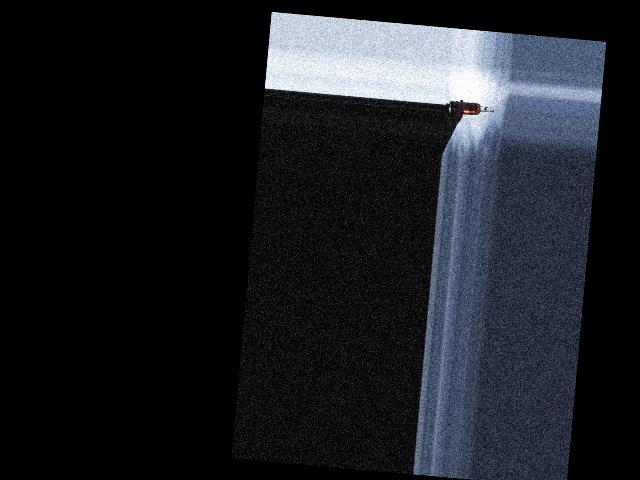beer: (448, 101, 494, 117)
